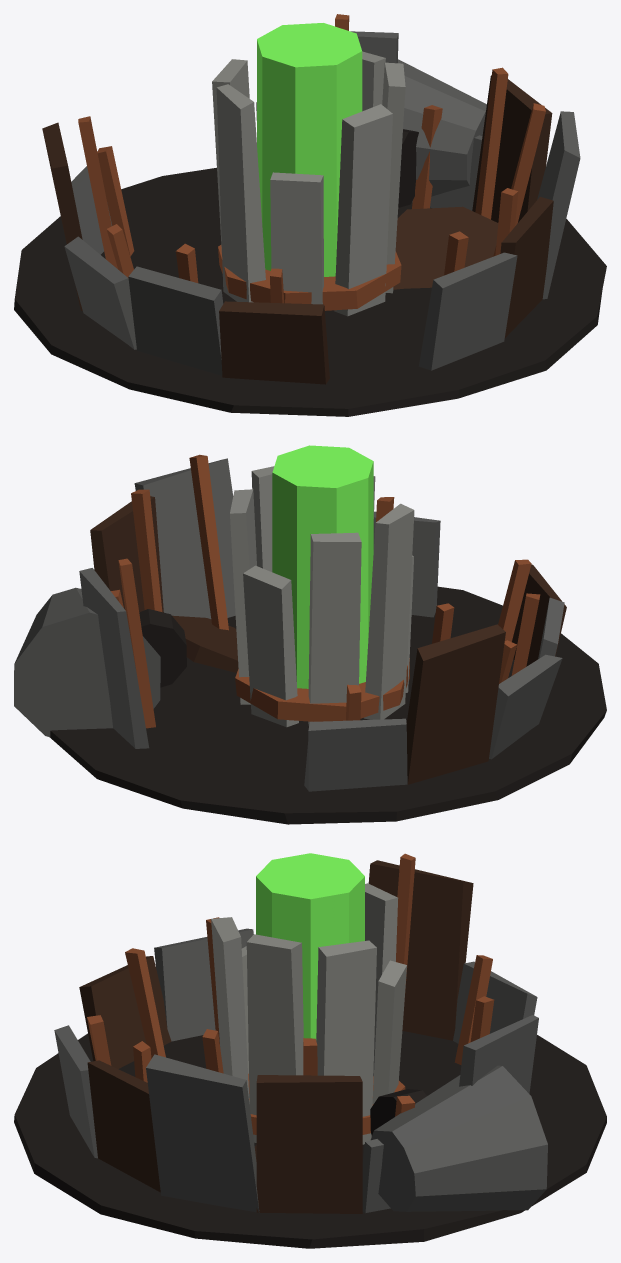
Rendered from reactor.glb.
3 renders of one model, top to bottom at view 1: azimuth 30°, elevation 25°; view 2: azimuth 150°, elevation 25°; view 3: azimuth 270°, elevation 25°, orthographic. The views are drawn at different scales.
Visible parts, largest first — view 1: reactor; view 2: reactor; view 3: reactor.
Boxes of the visible parts, bbox=[...] form: reactor: bbox=[14, 14, 606, 416]; reactor: bbox=[14, 445, 606, 824]; reactor: bbox=[14, 853, 606, 1248].
Size of the model in its own units: 24.07 by 11.59 by 23.89.
